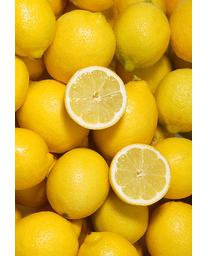lemon: (21, 78, 91, 154), (94, 79, 159, 160), (45, 10, 115, 85), (46, 146, 109, 222), (64, 65, 128, 128), (114, 2, 172, 70), (109, 142, 171, 204)
